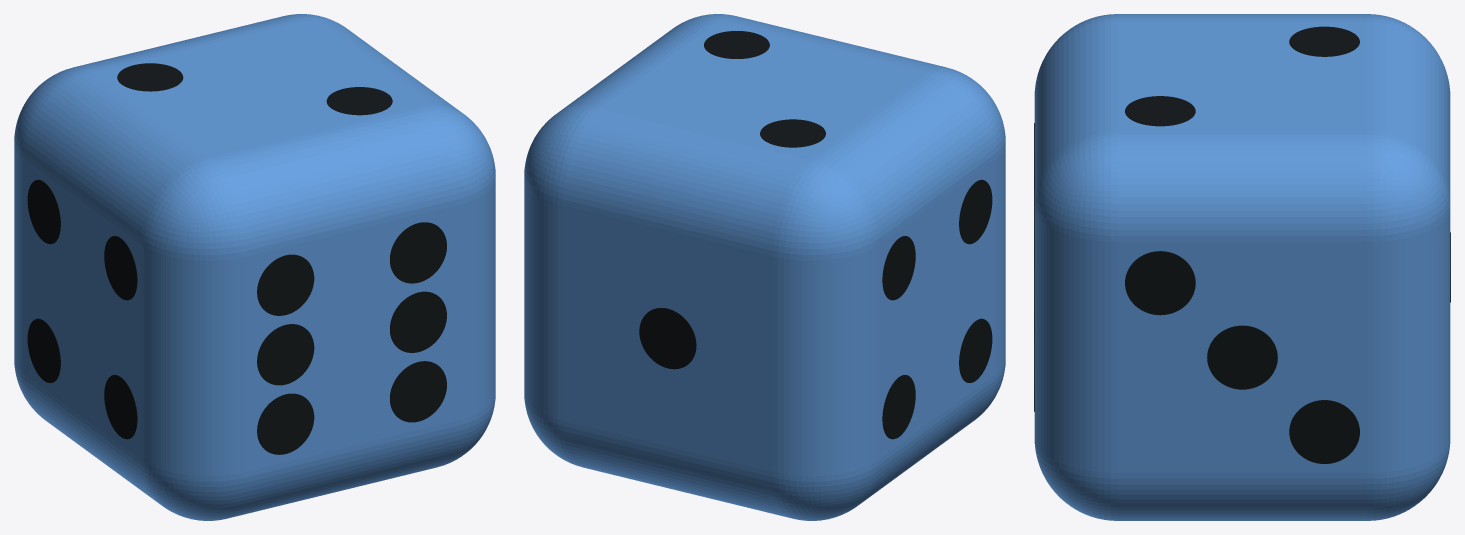
The picture shows the model from 3 angles, left to right: view 1: azimuth 30°, elevation 25°; view 2: azimuth 150°, elevation 25°; view 3: azimuth 270°, elevation 25°; orthographic projection. The views are drawn at different scales.
Visible parts, largest first — view 1: Foam body, Front pip 3, Front pip 1, Front pip 2, Front pip 5, Front pip 4, Front pip 6, Left pip 3, Left pip 4, Left pip 1, Left pip 2, Top pip 1 (+1 smaller); view 2: Foam body, Back pip 1, Left pip 1, Left pip 2, Left pip 3, Left pip 4, Top pip 1, Top pip 2; view 3: Foam body, Right pip 1, Right pip 2, Right pip 3, Top pip 2, Top pip 1.
Part boxes in pixels (x1=…): Foam body: x1=14, y1=14, x2=495, y2=520; Front pip 3: x1=257, y1=254, x2=314, y2=315; Front pip 1: x1=257, y1=393, x2=314, y2=454; Front pip 2: x1=257, y1=324, x2=314, y2=385; Front pip 5: x1=390, y1=291, x2=446, y2=352; Front pip 4: x1=390, y1=361, x2=446, y2=422; Front pip 6: x1=390, y1=222, x2=446, y2=283; Left pip 3: x1=104, y1=375, x2=137, y2=439; Left pip 4: x1=104, y1=236, x2=137, y2=300; Left pip 1: x1=27, y1=318, x2=60, y2=382; Left pip 2: x1=27, y1=179, x2=60, y2=244; Top pip 1: x1=117, y1=63, x2=183, y2=91; Foam body: x1=524, y1=14, x2=1005, y2=520; Back pip 1: x1=639, y1=308, x2=696, y2=369; Left pip 1: x1=882, y1=375, x2=915, y2=439; Left pip 2: x1=882, y1=236, x2=915, y2=300; Left pip 3: x1=959, y1=318, x2=992, y2=382; Left pip 4: x1=959, y1=179, x2=992, y2=244; Top pip 1: x1=760, y1=119, x2=825, y2=147; Top pip 2: x1=704, y1=31, x2=769, y2=58; Foam body: x1=1034, y1=14, x2=1450, y2=520; Right pip 1: x1=1125, y1=251, x2=1195, y2=315; Right pip 2: x1=1207, y1=325, x2=1277, y2=389; Right pip 3: x1=1289, y1=400, x2=1359, y2=463; Top pip 2: x1=1125, y1=96, x2=1195, y2=126; Top pip 1: x1=1289, y1=26, x2=1359, y2=56.
Size of the model in its own units: 0.0822 by 0.0812 by 0.0802.
